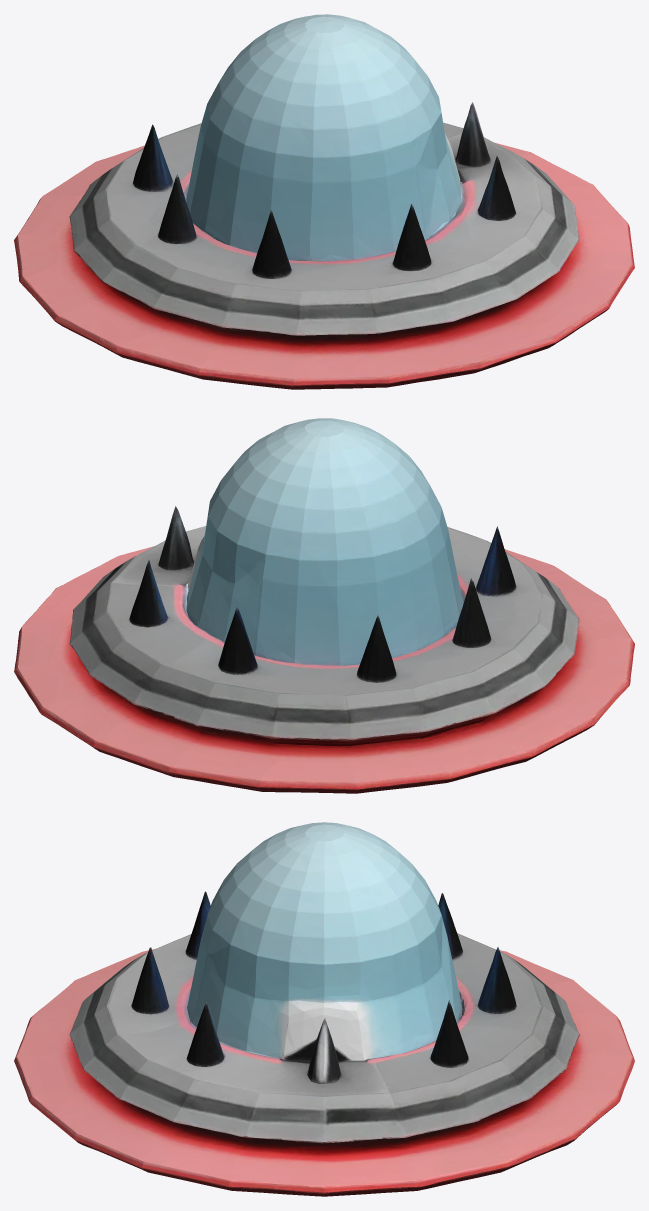
File: nano_t02.glb
The picture shows the model from 3 angles, top to bottom: view 1: azimuth 30°, elevation 25°; view 2: azimuth 150°, elevation 25°; view 3: azimuth 270°, elevation 25°; orthographic projection.
Visible parts, largest first — view 1: geometry_0; view 2: geometry_0; view 3: geometry_0.
Boxes of the visible parts, bbox=[...] form: geometry_0: bbox=[14, 14, 634, 389]; geometry_0: bbox=[14, 418, 634, 793]; geometry_0: bbox=[14, 822, 634, 1196].
Size of the model in its own units: 2 by 1.16 by 2.
1 material, 1 textured.
